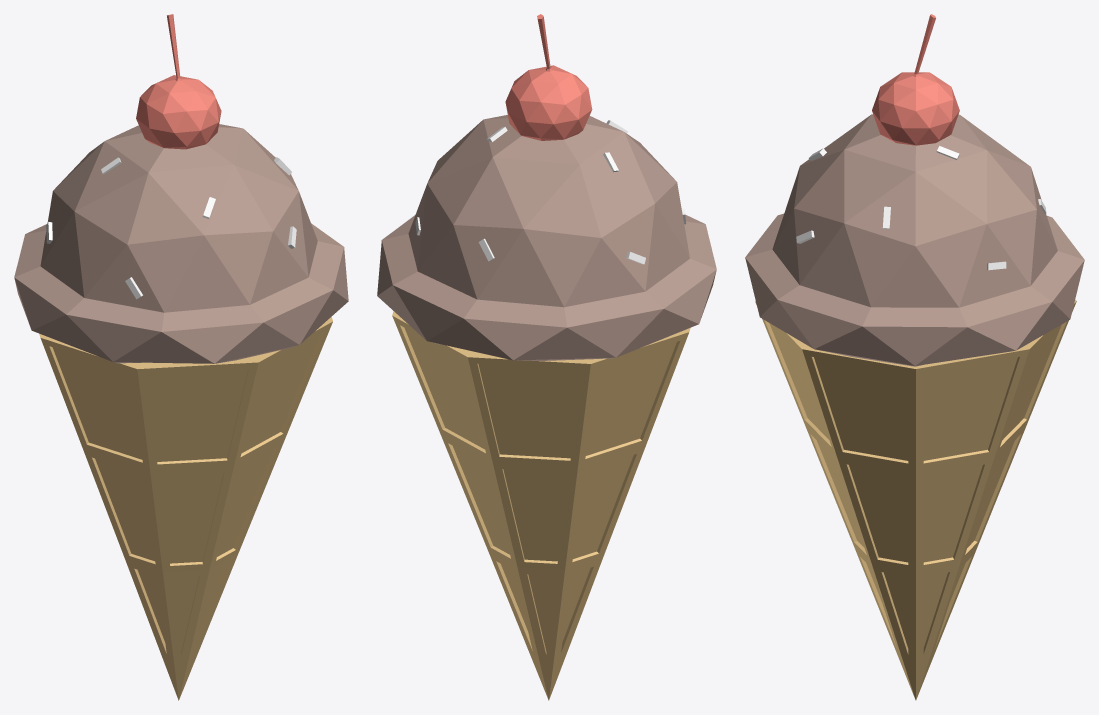
The model's file is Ice_Cream_01.gltf.
3 renders of one model, left to right at view 1: azimuth 30°, elevation 25°; view 2: azimuth 150°, elevation 25°; view 3: azimuth 270°, elevation 25°, orthographic.
Visible parts, largest first — view 1: node-0; view 2: node-0; view 3: node-0.
Boxes of the visible parts, bbox=[...] form: node-0: bbox=[14, 14, 348, 700]; node-0: bbox=[377, 14, 716, 700]; node-0: bbox=[745, 14, 1084, 700].
Size of the model in its own units: 4.52 by 10.21 by 4.58.
